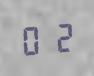two: (47, 20, 74, 53)
zero: (19, 22, 46, 55)
